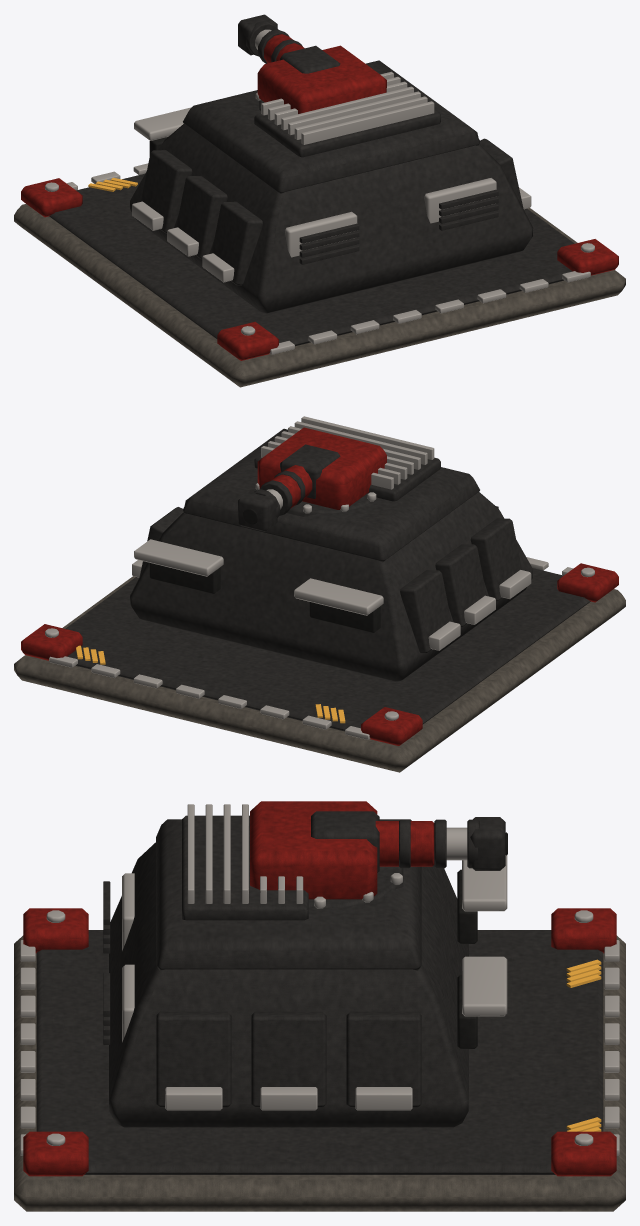
Rendered from kharn_bunker.gltf.
The picture shows the model from 3 angles, top to bottom: view 1: azimuth 30°, elevation 25°; view 2: azimuth 150°, elevation 25°; view 3: azimuth 270°, elevation 25°; orthographic projection. The views are drawn at different scales.
Parts seen in each view (by area): view 1: Root.014_Geometry, TurretYaw.003_Geometry, GunRecoil.001_Geometry, GunPitch.004_Geometry; view 2: Root.014_Geometry, TurretYaw.003_Geometry, GunRecoil.001_Geometry, GunPitch.004_Geometry; view 3: Root.014_Geometry, TurretYaw.003_Geometry, GunRecoil.001_Geometry, GunPitch.004_Geometry.
Part boxes in pixels (x1,y1,x2,y2): Root.014_Geometry: (14, 60, 625, 387); TurretYaw.003_Geometry: (257, 45, 386, 113); GunRecoil.001_Geometry: (238, 14, 304, 63); GunPitch.004_Geometry: (280, 45, 340, 73); Root.014_Geometry: (14, 416, 625, 772); TurretYaw.003_Geometry: (257, 427, 386, 509); GunRecoil.001_Geometry: (238, 465, 312, 531); GunPitch.004_Geometry: (280, 444, 340, 498); Root.014_Geometry: (14, 804, 625, 1211); TurretYaw.003_Geometry: (250, 801, 377, 899); GunRecoil.001_Geometry: (375, 817, 507, 870); GunPitch.004_Geometry: (311, 811, 379, 872).
Bounding box in the file's own units: 3.94 × 1.89 × 3.94.
Materials: 6 (4 with a texture image).
